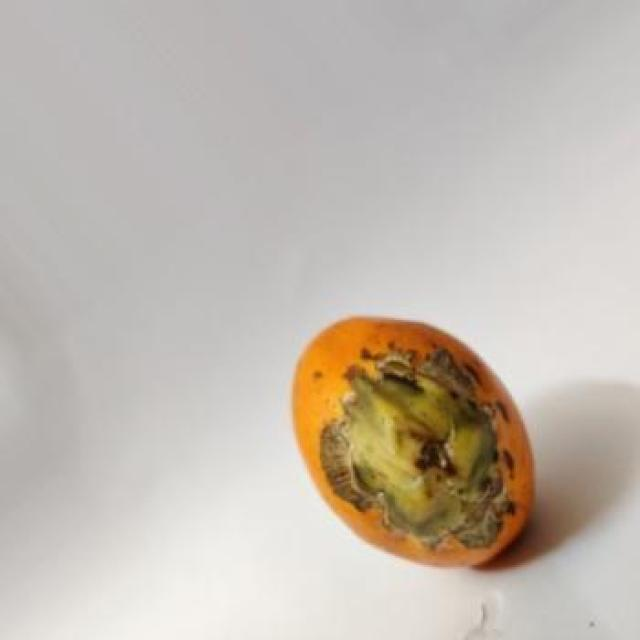good: (289, 318, 536, 571)
